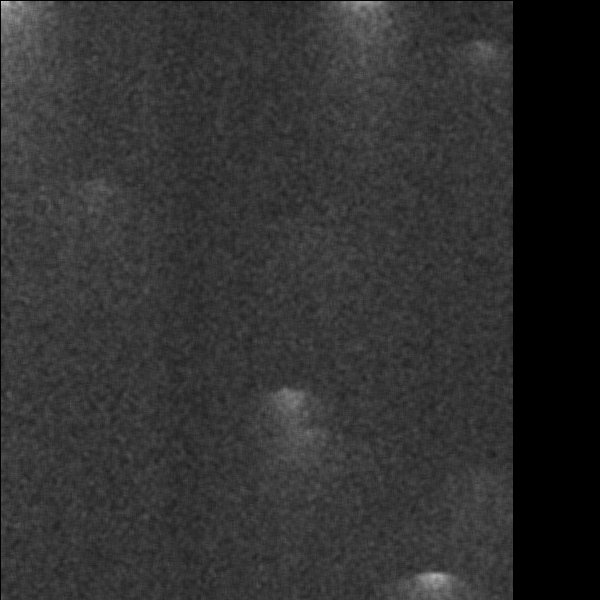spark: (161, 382, 210, 425)
